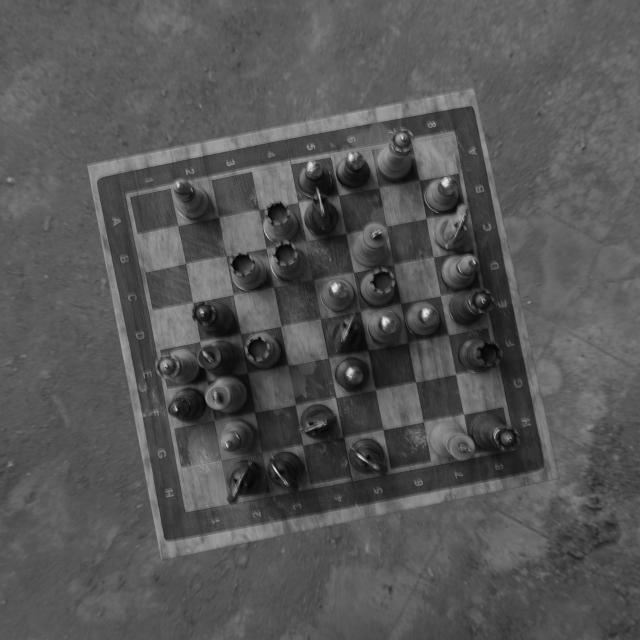chessboard: (127, 133, 517, 510)
